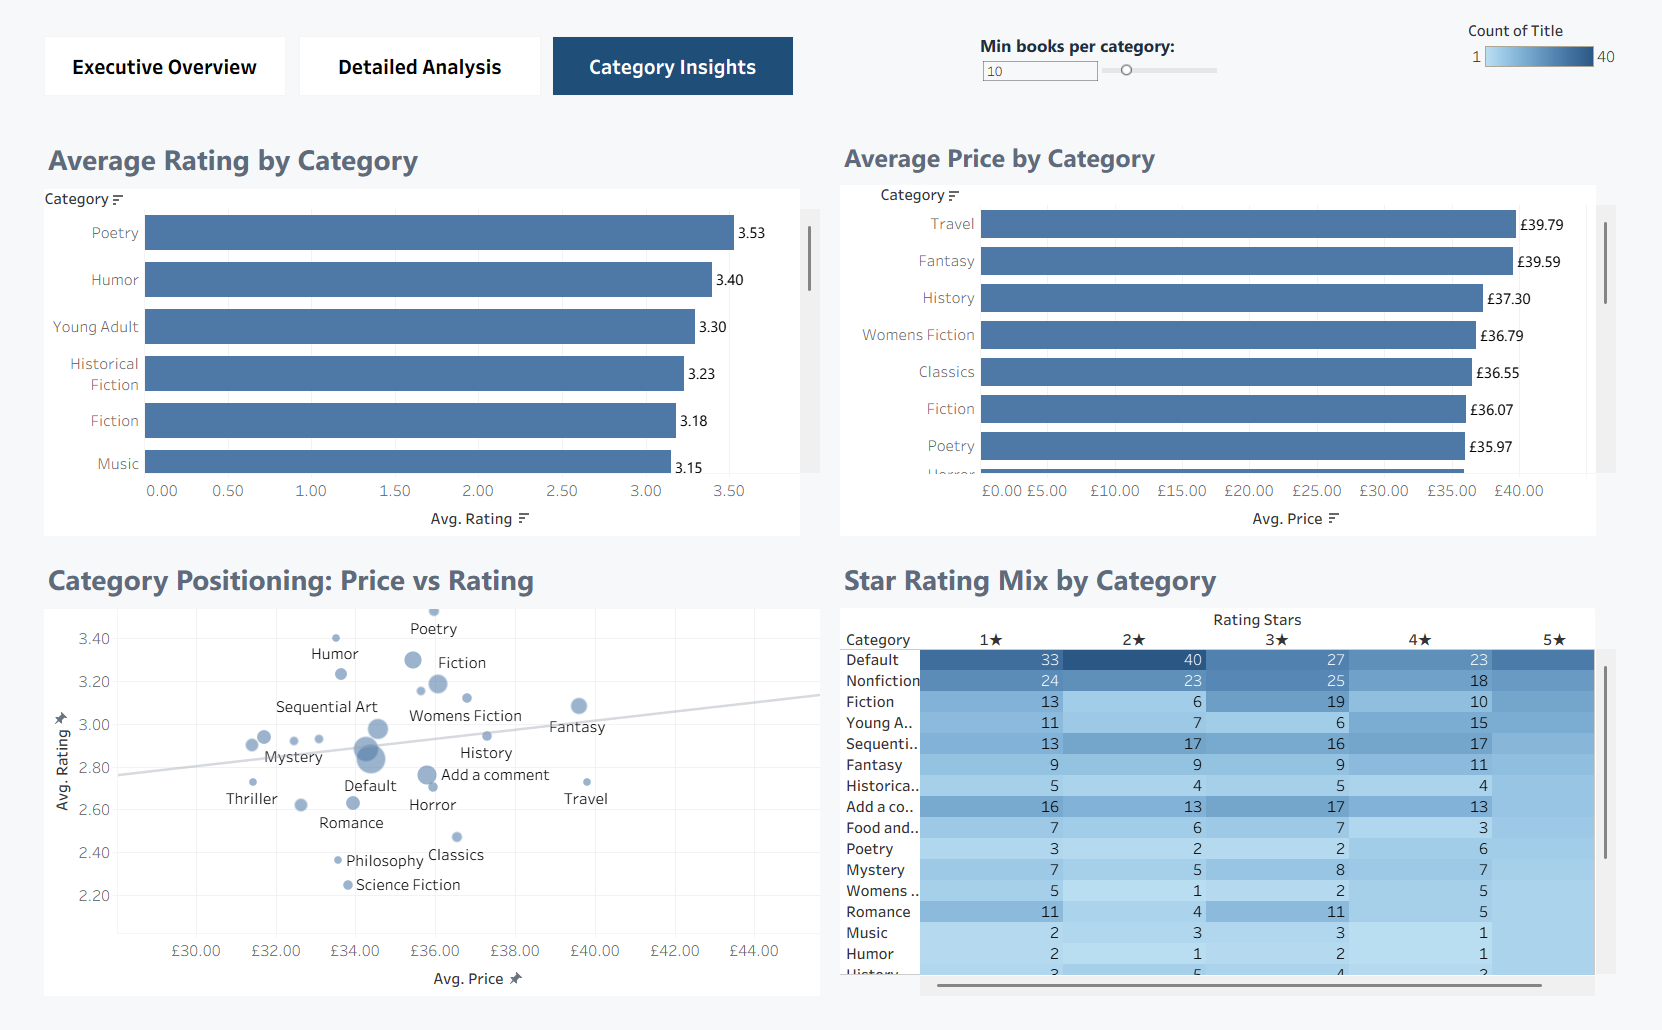

Layout of this report page (visuals, bound fields, positions):
{"tool":"tableau","page":{"name":"Category Insights","canvas":[1000,1000],"units":"permille","ordinal":0},"visuals":[{"type":"worksheet","title":"Filter","mark":"Automatic","box":[0,0,899.2,1000]},{"type":"legend","title":"Star Rating Mix by Category","param":"[federated.1kgitfg1grs3ek11fq6yz0rqx61v].[cnt:Title:qk]","box":[899.2,0,100.8,81]},{"type":"parameter","param":"[Parameters].[Parameter 0231771338317824]","box":[597.6,18,149.9,55]},{"type":"dashboard-object","box":[12.6,20,151.1,60]},{"type":"dashboard-object","box":[171.9,20,151.1,60]},{"type":"dashboard-object","box":[330,20,151.1,60]},{"type":"worksheet","title":"Average Rating by Category","mark":"Automatic","rows":["Category"],"cols":["Rating"],"box":[12.6,120,484.9,400]},{"type":"worksheet","title":"Average Price by Category","mark":"Automatic","rows":["Category"],"cols":["Price"],"box":[510.1,120,484.9,400]},{"type":"worksheet","title":"Category Positioning","mark":"Circle","rows":["Rating"],"cols":["Price"],"box":[12.6,540,484.9,440]},{"type":"worksheet","title":"Star Rating Mix by Category","mark":"Square","rows":["Category"],"cols":["Calculation_1079218581385217"],"box":[510.1,540,484.9,440]}]}

Visuals, with their boxes on the dashboard's canvas, which has no fixed pixel size, in thousandths of its width and height (x1, y1, x2, y2). These are canvas units, not pixel positions in the 1662x1030 screenshot, which may show the page scaled, cropped or inside an application window:
"Filter" worksheet: BBox(0, 0, 899, 1000)
"Star Rating Mix by Category" legend: BBox(899, 0, 1000, 81)
parameter: BBox(598, 18, 748, 73)
dashboard-object: BBox(13, 20, 164, 80)
dashboard-object: BBox(172, 20, 323, 80)
dashboard-object: BBox(330, 20, 481, 80)
"Average Rating by Category" worksheet: BBox(13, 120, 498, 520)
"Average Price by Category" worksheet: BBox(510, 120, 995, 520)
"Category Positioning" worksheet (Circle marks): BBox(13, 540, 498, 980)
"Star Rating Mix by Category" worksheet (Square marks): BBox(510, 540, 995, 980)
